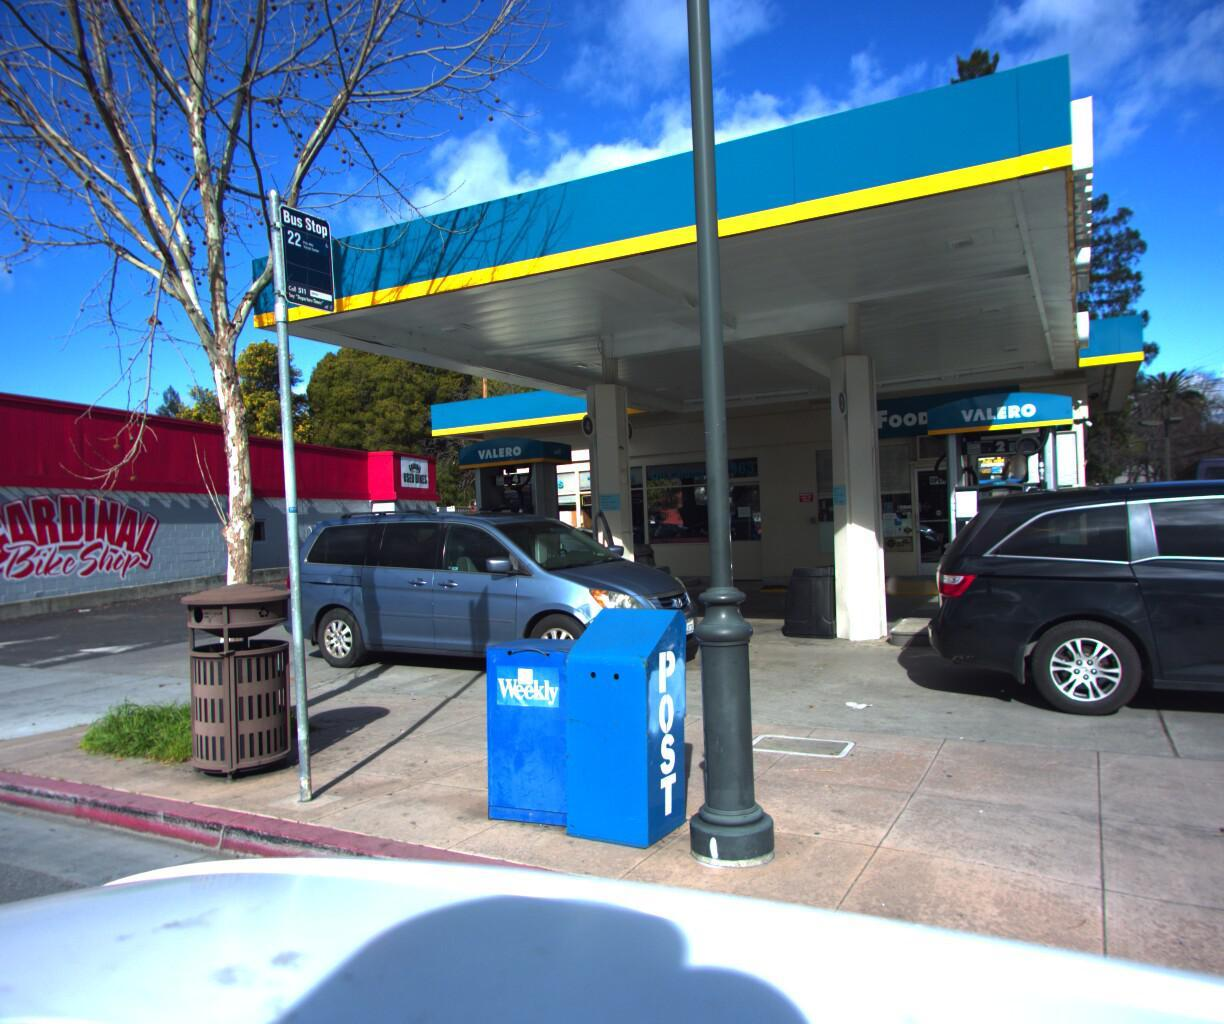car: (899, 433, 1224, 771), (249, 494, 729, 697), (384, 516, 677, 613), (1159, 441, 1224, 567), (632, 484, 730, 537)
